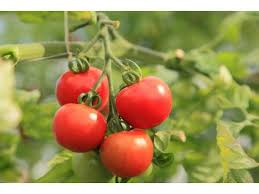tomato: (116, 76, 174, 129), (55, 66, 114, 112), (54, 105, 110, 153), (99, 130, 154, 176)
